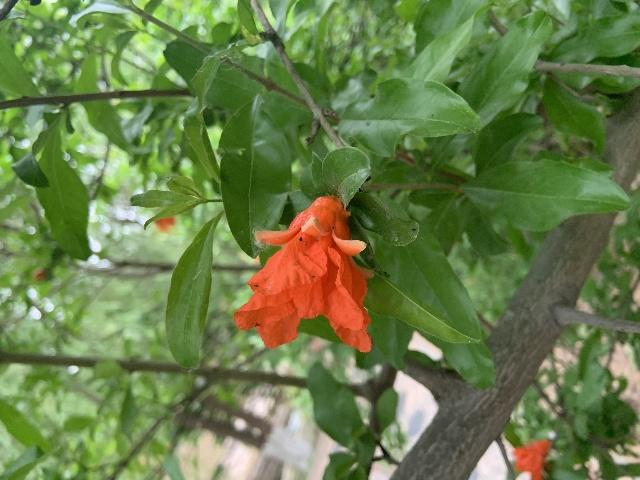flower: (234, 195, 373, 352), (512, 440, 550, 480)
